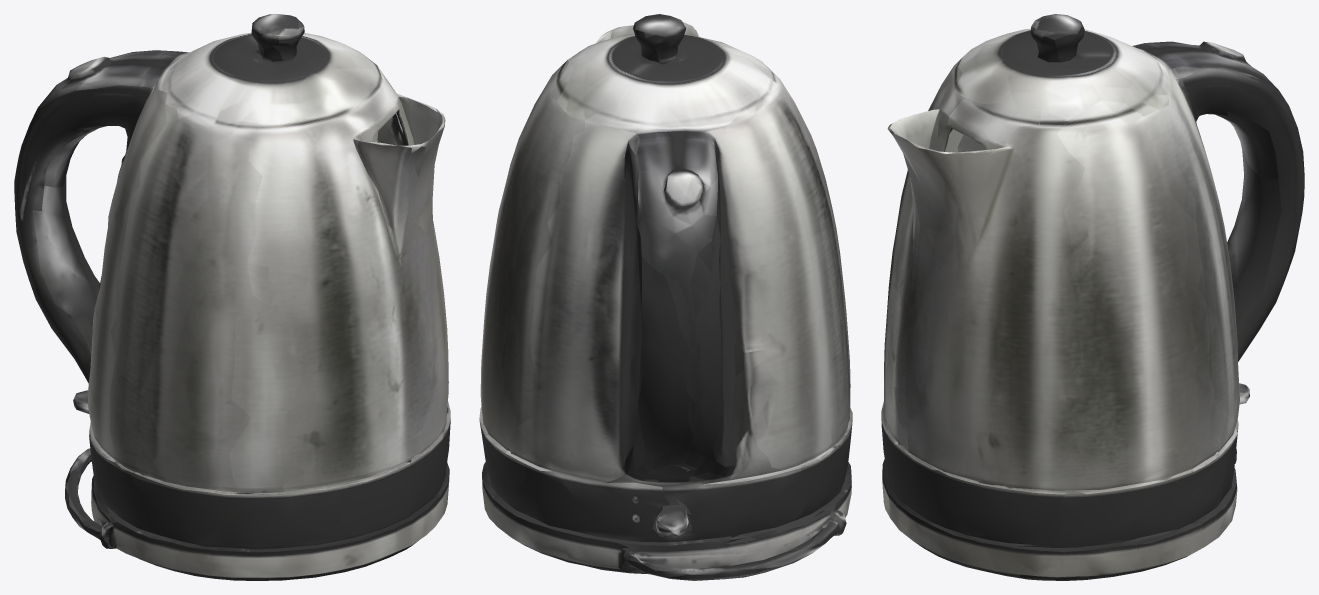
The model's file is mundane_kettle.glb.
The picture shows the model from 3 angles, left to right: view 1: azimuth 30°, elevation 25°; view 2: azimuth 150°, elevation 25°; view 3: azimuth 270°, elevation 25°; orthographic projection.
Parts seen in each view (by area): view 1: geometry_0; view 2: geometry_0; view 3: geometry_0.
Boxes of the visible parts, x1,y1,x2,y2 form: geometry_0: (14, 14, 450, 580); geometry_0: (479, 14, 852, 580); geometry_0: (881, 14, 1304, 580).
Bounding box in the file's own units: 0.1798 × 0.25 × 0.1945.
Materials: 1 (1 with a texture image).
